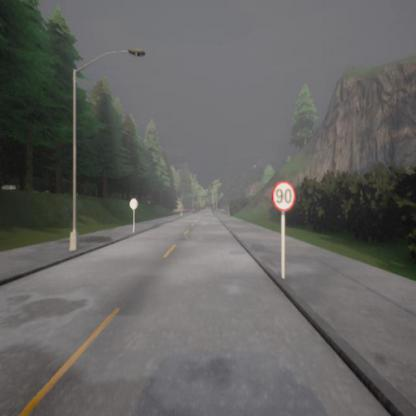traffic_sign_90: (272, 180, 296, 212)
